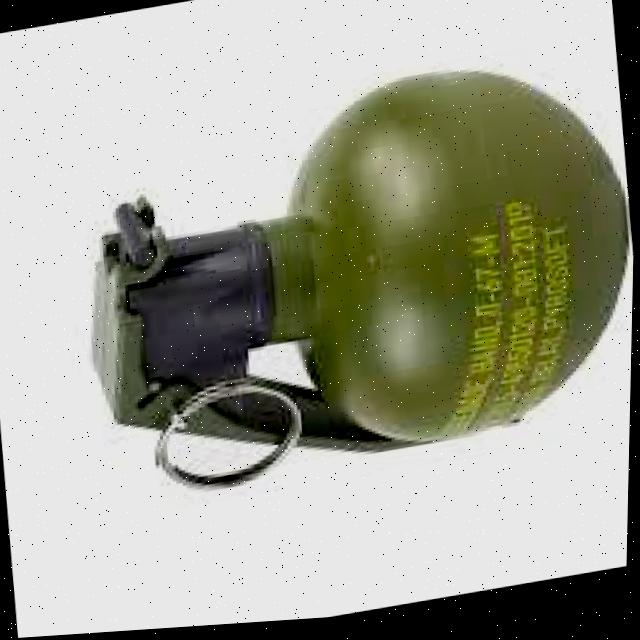grenade: (54, 43, 639, 519)
